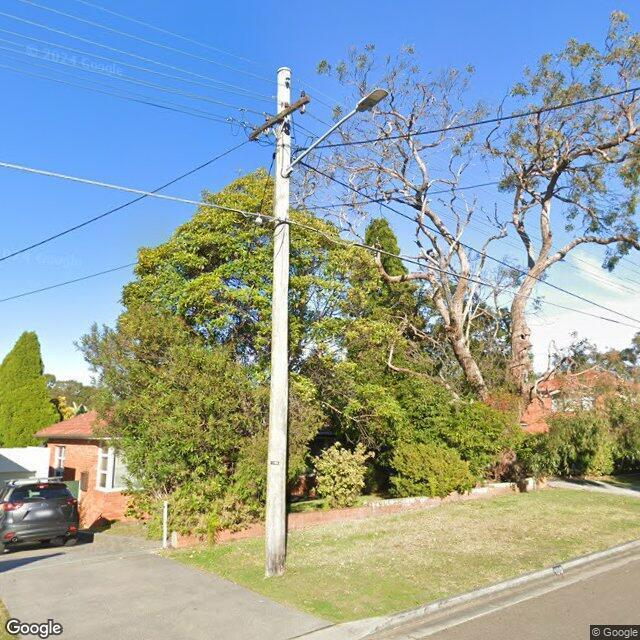crossarm: (250, 94, 311, 142)
streetlight: (288, 88, 390, 177)
timber-pole: (262, 68, 294, 577)
